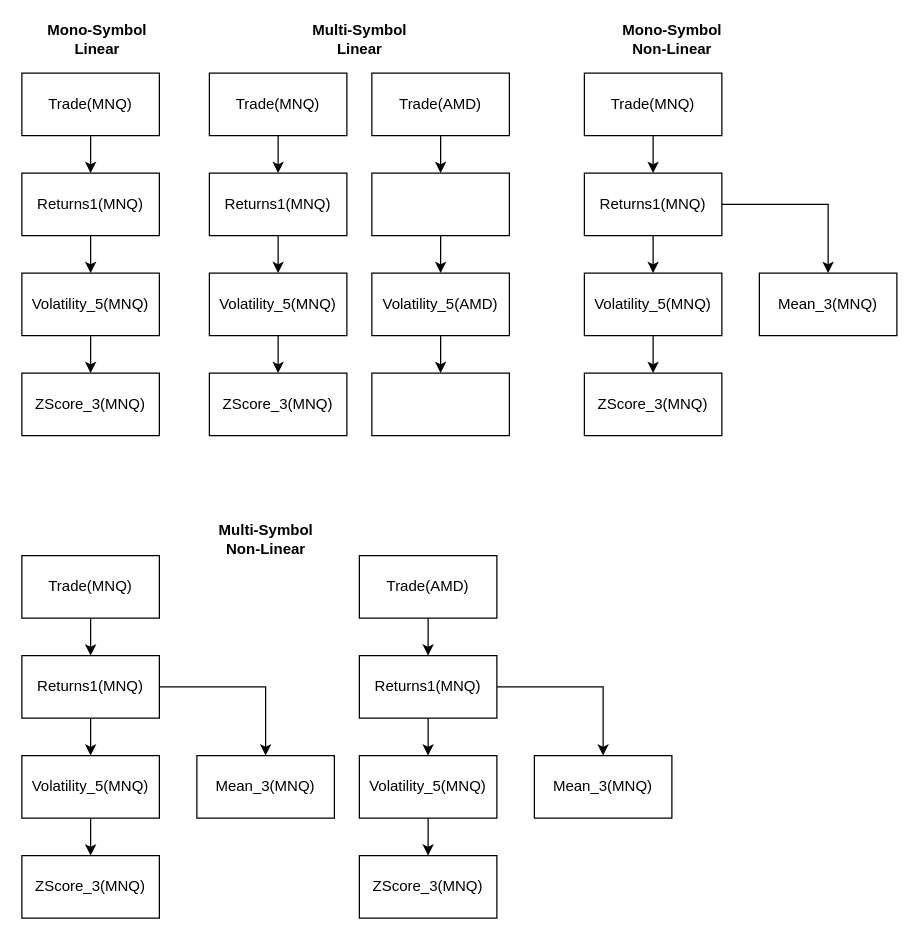
Image size: 919x940. Some labels were removed from this diagram. Each missing label, with the centre of its shape:
"Returns1(AMD)" belongs at [440,204].
"ZScore_2(AMD)" belongs at [440,404].
